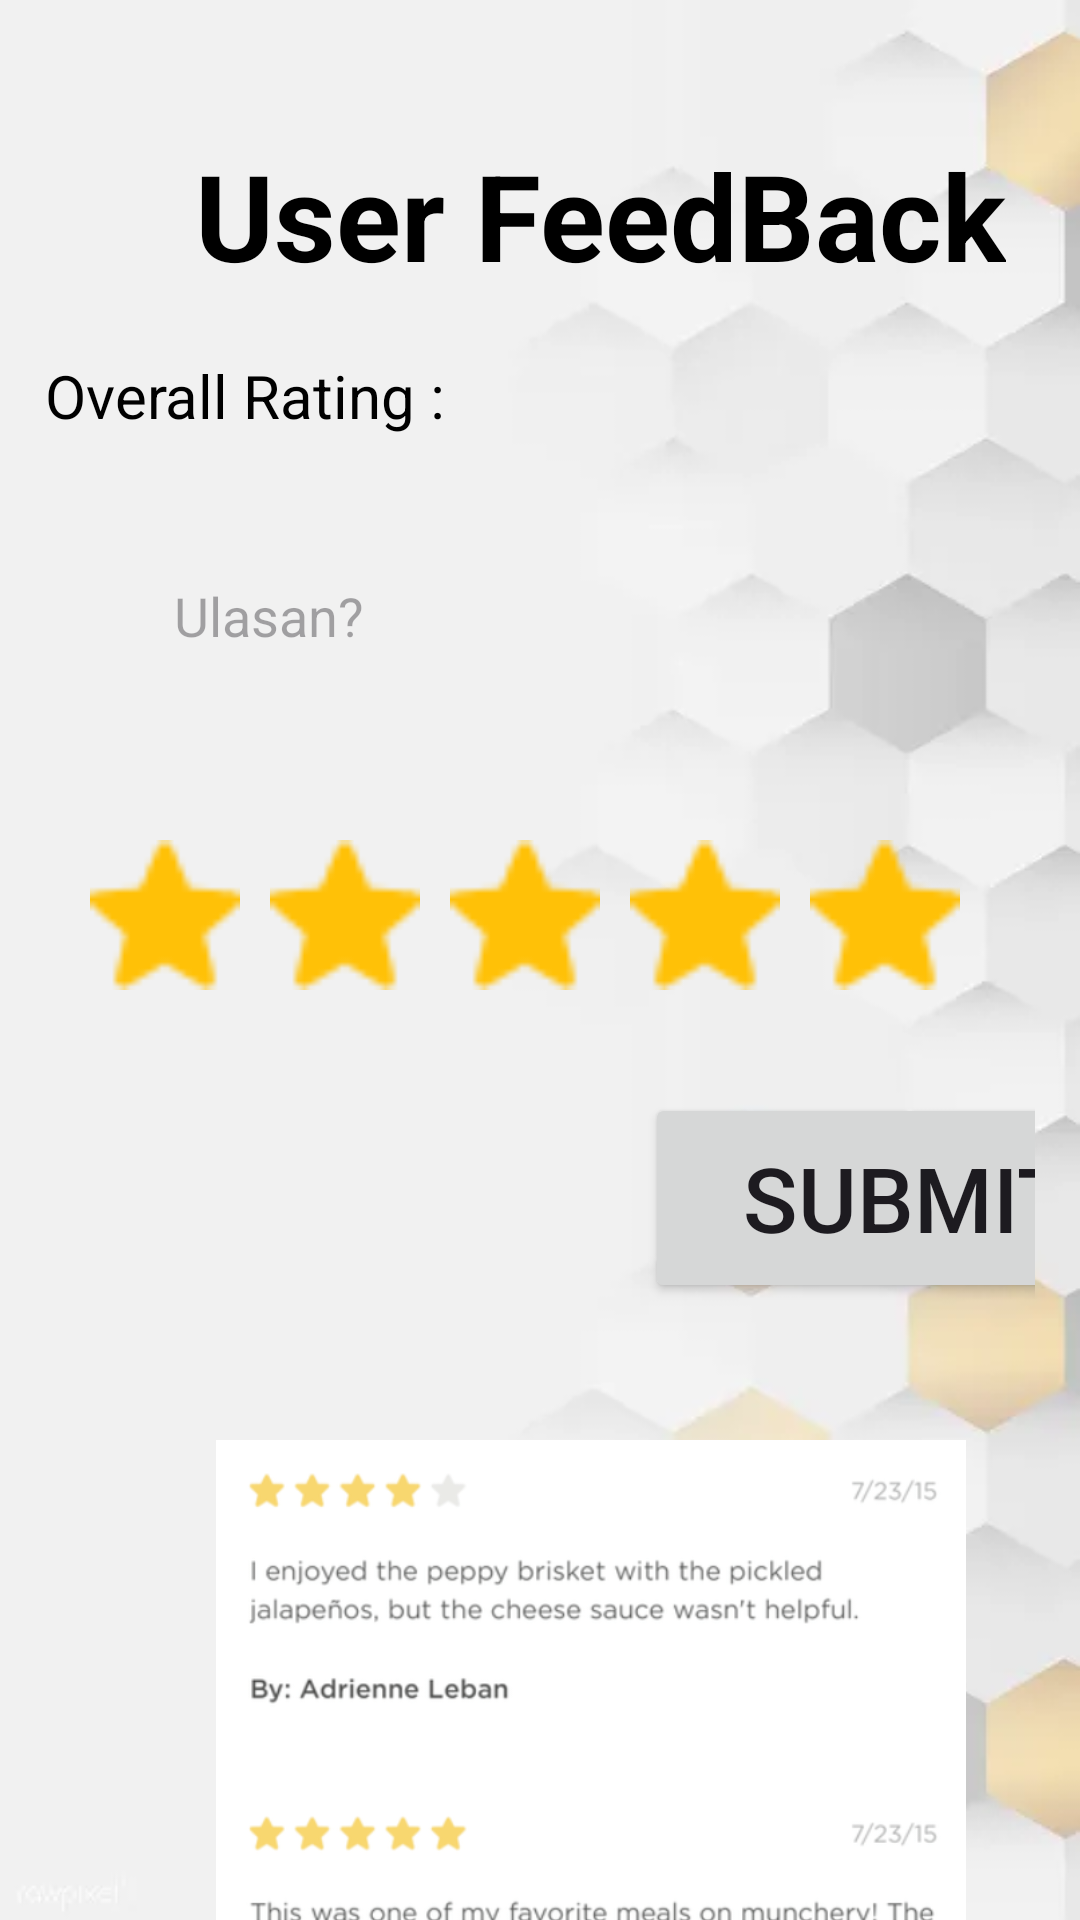

Where icons sit on this 1080×1920 app screen, as BBox(x1, y1, x2, y2):
star: BBox(90, 840, 240, 990), BBox(270, 840, 420, 990), BBox(450, 840, 600, 990), BBox(630, 840, 780, 990), BBox(810, 840, 960, 990)
